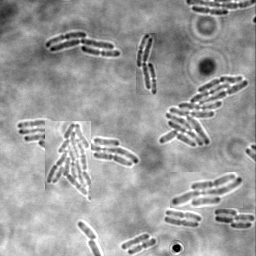Dividing: (128, 238, 157, 255), (166, 209, 202, 222), (164, 217, 200, 228), (192, 7, 229, 17)
Microcolony: (158, 76, 249, 147), (45, 121, 91, 202), (170, 172, 243, 208), (45, 32, 121, 57), (18, 120, 61, 155), (92, 137, 139, 168), (136, 33, 157, 95), (214, 208, 255, 229)
Rod: (121, 233, 150, 251), (78, 222, 99, 240)
